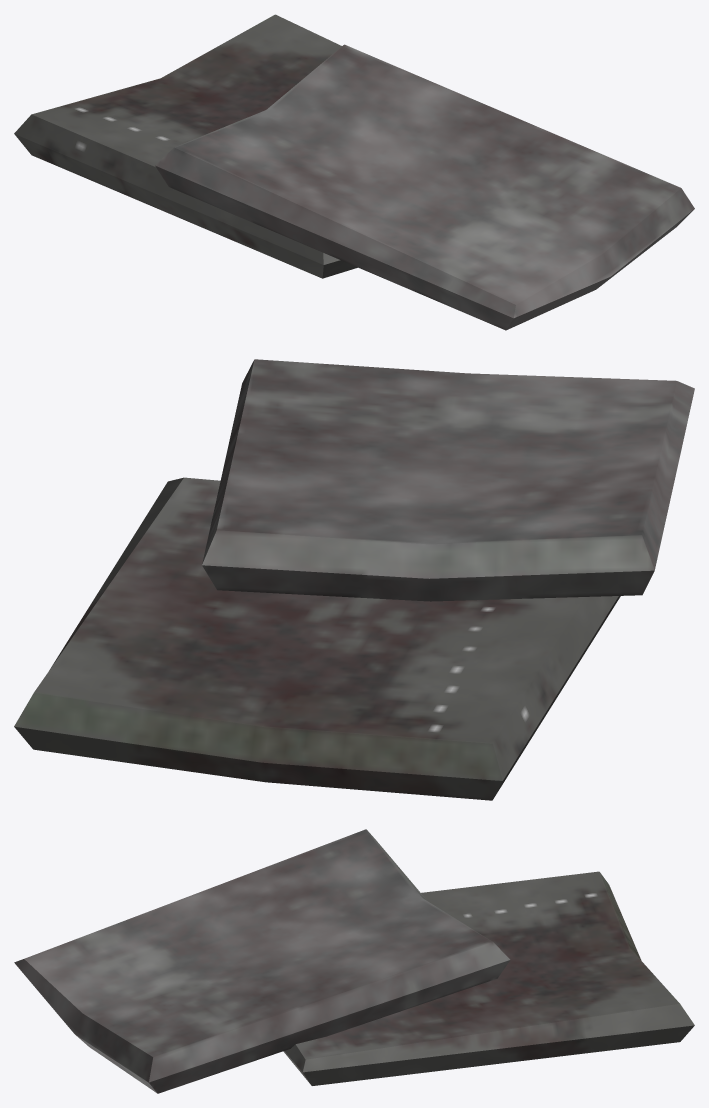
File: House_rubble2.fbx
The picture shows the model from 3 angles, top to bottom: view 1: azimuth 30°, elevation 25°; view 2: azimuth 150°, elevation 25°; view 3: azimuth 270°, elevation 25°; orthographic projection. The views are drawn at different scales.
Parts seen in each view (by area): view 1: broken_beam.004; view 2: broken_beam.004; view 3: broken_beam.004.
Boxes of the visible parts, bbox=[...] form: broken_beam.004: bbox=[14, 14, 694, 330]; broken_beam.004: bbox=[14, 359, 694, 800]; broken_beam.004: bbox=[14, 829, 694, 1093].
Bounding box in the file's own units: 45.49 × 10.6 × 66.23.
